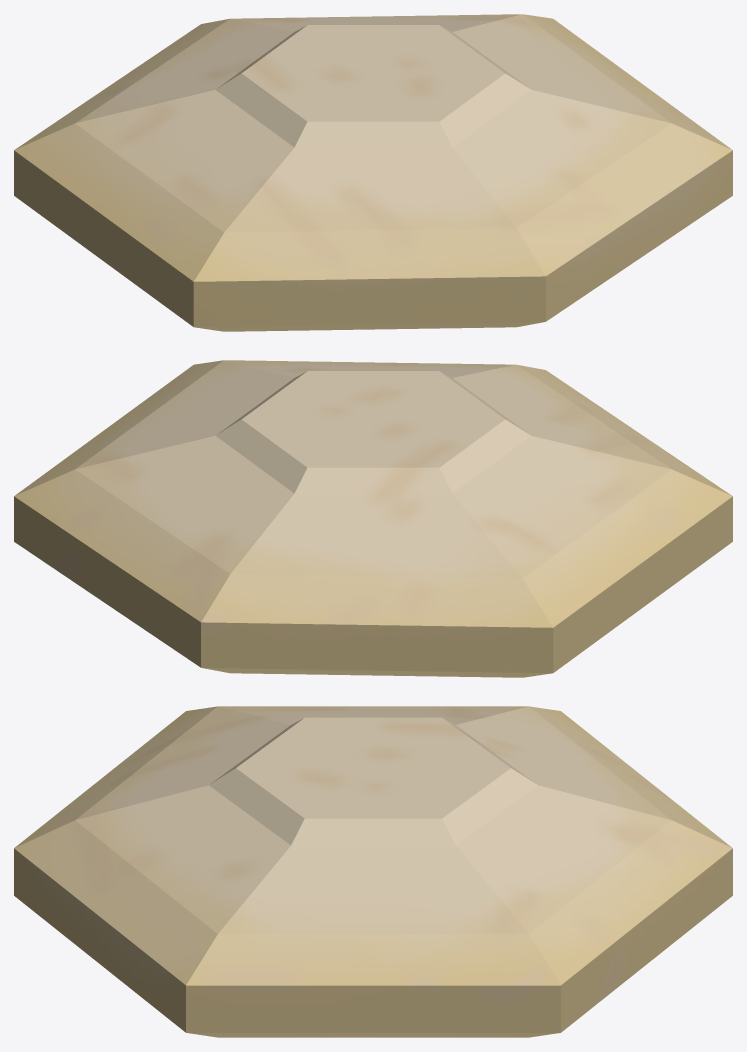
File: Foods_Fishball.fbx
The picture shows the model from 3 angles, top to bottom: view 1: azimuth 30°, elevation 25°; view 2: azimuth 150°, elevation 25°; view 3: azimuth 270°, elevation 25°; orthographic projection. The views are drawn at different scales.
Parts seen in each view (by area): view 1: Fishball; view 2: Fishball; view 3: Fishball.
Part boxes in pixels (box(x1,y1,x2,y2)): Fishball: box(14, 14, 732, 331); Fishball: box(14, 360, 732, 677); Fishball: box(14, 706, 732, 1037).
Size of the model in its own units: 253 by 281 by 89.43.
Materials: 1 (1 with a texture image).
